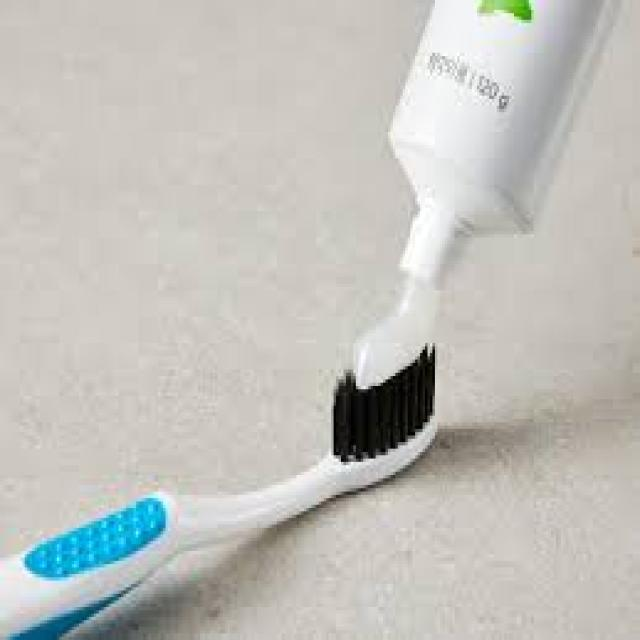toothpaste: (371, 0, 619, 295)
